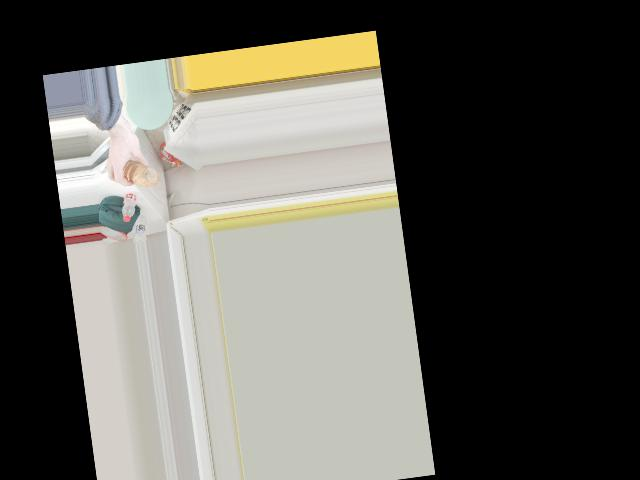sweet_potato: (120, 157, 154, 191)
